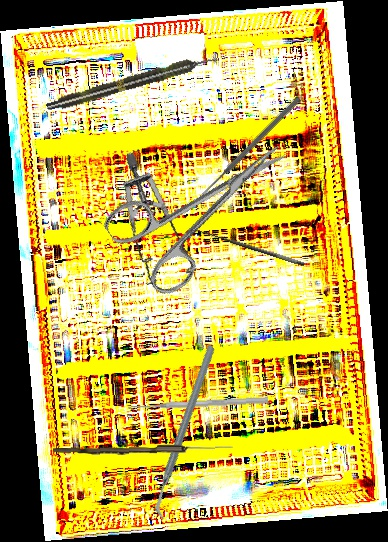Chopper: (100, 344, 271, 521)
Handpiece: (44, 51, 219, 115)
Hook Surgical: (187, 223, 306, 276)
Iris Scissors: (99, 112, 314, 304)
Pusher: (198, 95, 302, 199), (127, 395, 269, 412)
Speculum: (97, 151, 221, 296)
Surgical Spoon: (52, 441, 234, 458)
